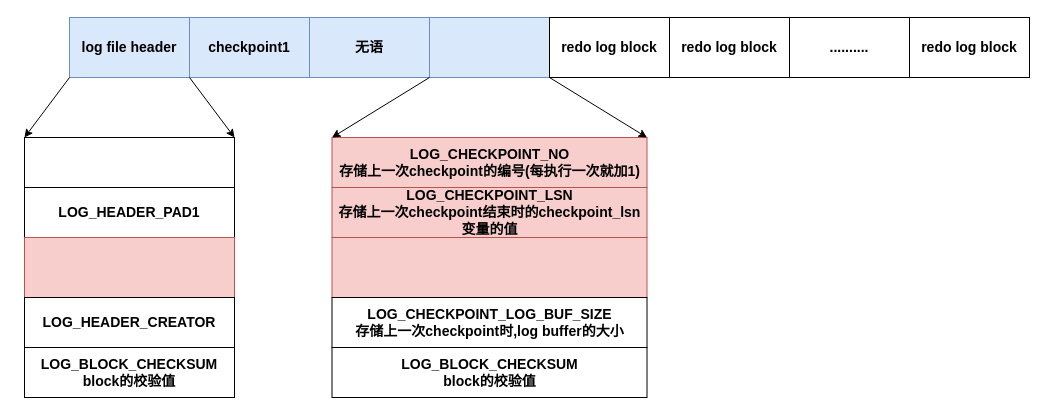
Image size: 1048x415. Some labels were removed from this diagram. Each missing label, with the centre of its shape:
checkpoint2: the point at 489,47
LOG_CHECKPOINT_OFFSET 上个属性的lsn值在redo日志文件组中对应的偏移量: the point at 489,267
LOG_HEADER_FORMAT redo日志版本: the point at 129,162
LOG_HEADER_START_LSN 本redo日志文件中第2048字节处的位置对应的lsn值: the point at 129,267
